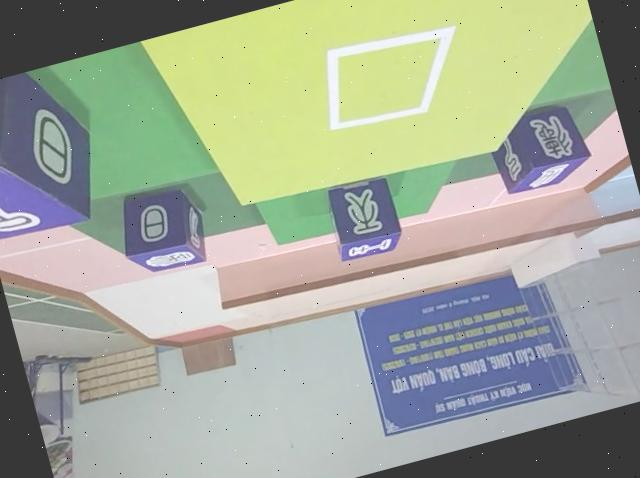R2 Fake Blue: (0, 56, 118, 247), (482, 95, 596, 196), (106, 177, 212, 282), (318, 168, 405, 261)
